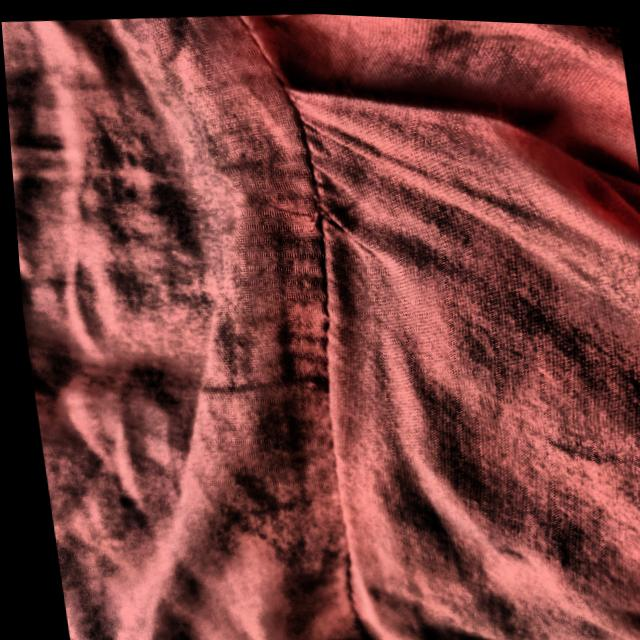Stitch: (243, 150, 370, 298)
